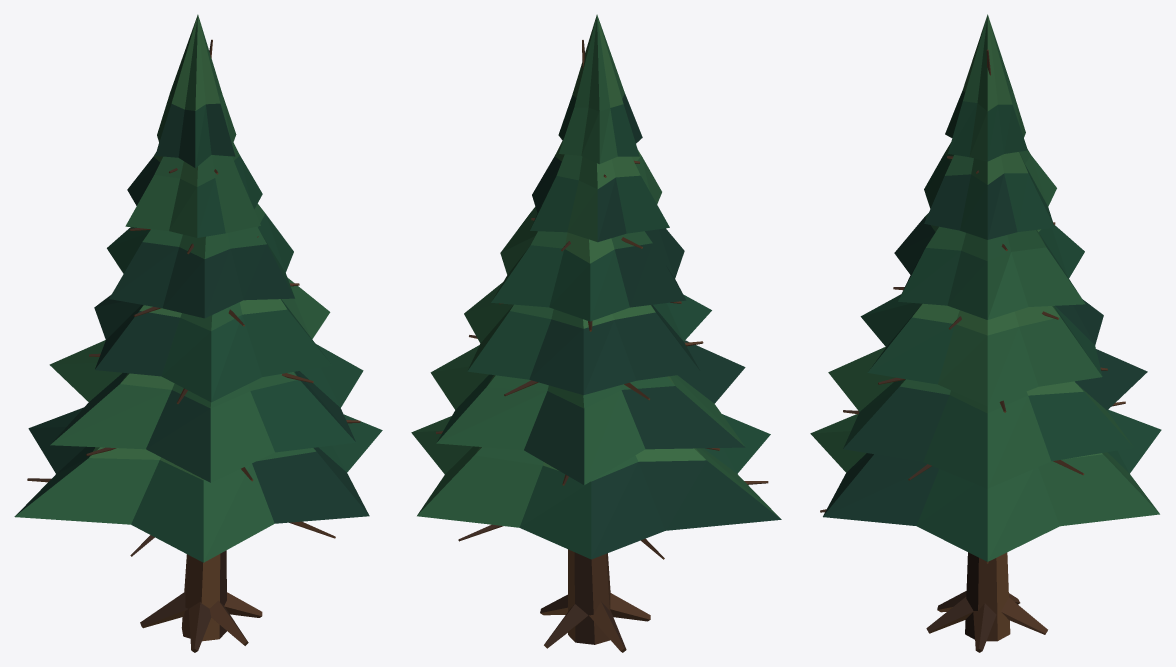
Rendered from tree_pine_young.obj.
The picture shows the model from 3 angles, left to right: view 1: azimuth 30°, elevation 25°; view 2: azimuth 150°, elevation 25°; view 3: azimuth 270°, elevation 25°; orthographic projection.
Visible parts, largest first — view 1: tree_pine_young; view 2: tree_pine_young; view 3: tree_pine_young.
Boxes of the visible parts, <box> form: tree_pine_young: <box>14,14,382,652</box>; tree_pine_young: <box>411,14,781,652</box>; tree_pine_young: <box>810,14,1161,652</box>.
Size of the model in its own units: 162 by 260 by 135.
1 material, 1 textured.
